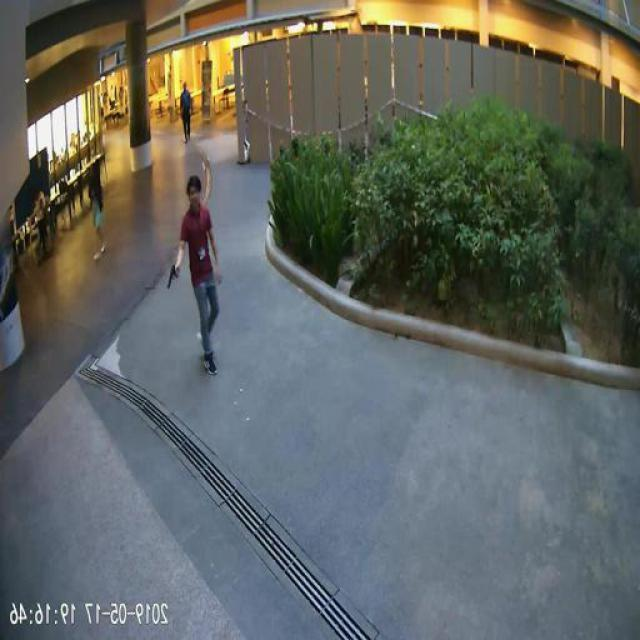weapon: (166, 264, 180, 290)
